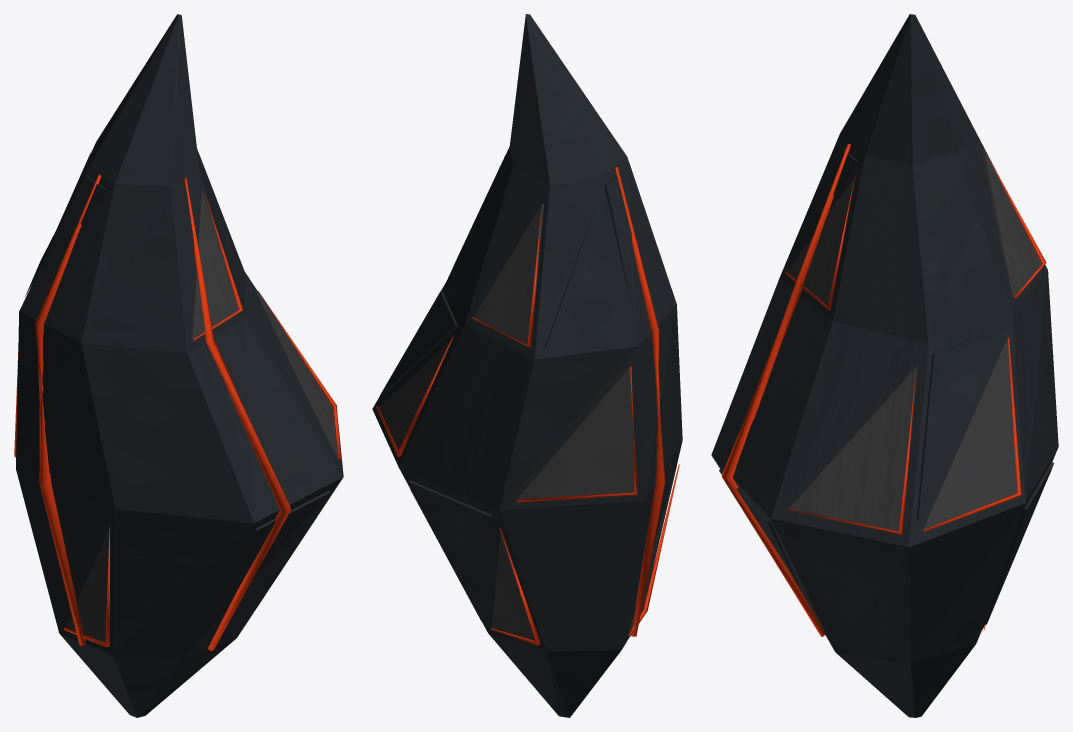
File: SM_meteor_shard_LOD1.fbx
3 renders of one model, left to right at view 1: azimuth 30°, elevation 25°; view 2: azimuth 150°, elevation 25°; view 3: azimuth 270°, elevation 25°, orthographic. The views are drawn at different scales.
Visible parts, largest first — view 1: SM_meteor_shard_LOD1; view 2: SM_meteor_shard_LOD1; view 3: SM_meteor_shard_LOD1.
Part boxes in pixels (x1=…): SM_meteor_shard_LOD1: x1=14, y1=14, x2=343, y2=717; SM_meteor_shard_LOD1: x1=372, y1=14, x2=682, y2=717; SM_meteor_shard_LOD1: x1=711, y1=14, x2=1058, y2=717.
Bounding box in the file's own units: 0.3781 × 0.3672 × 0.8403.
